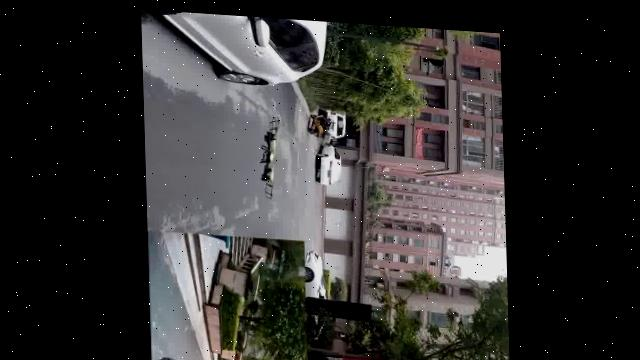drone: (243, 109, 286, 195)
